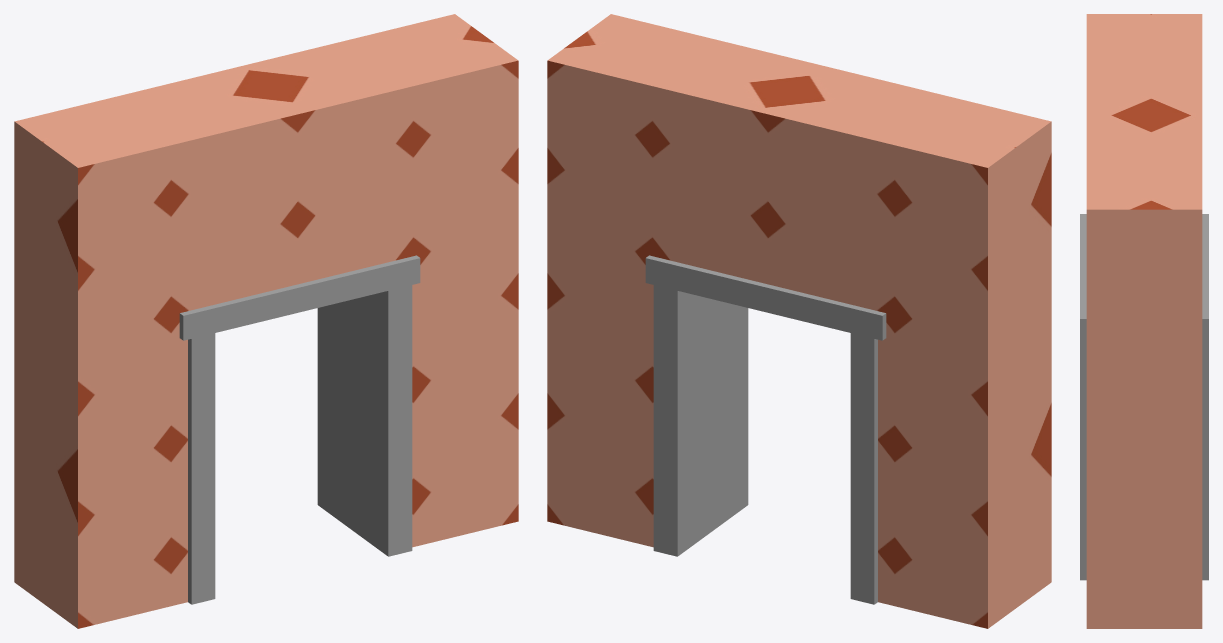
The model's file is Wall_door.fbx.
3 renders of one model, left to right at view 1: azimuth 30°, elevation 25°; view 2: azimuth 150°, elevation 25°; view 3: azimuth 270°, elevation 25°, orthographic. The views are drawn at different scales.
Visible parts, largest first — view 1: polySurface88, polySurface89; view 2: polySurface88, polySurface89; view 3: polySurface88, polySurface89.
Part boxes in pixels (left/top/right/bottom): polySurface88: left=14, top=14, right=518, bottom=628; polySurface89: left=179, top=255, right=420, bottom=604; polySurface88: left=547, top=14, right=1051, bottom=628; polySurface89: left=645, top=255, right=886, bottom=604; polySurface88: left=1086, top=14, right=1202, bottom=628; polySurface89: left=1080, top=214, right=1208, bottom=580.
Size of the model in its own units: 452 by 452 by 126.
